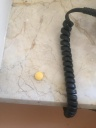Nurofen: (34, 71, 44, 81)
